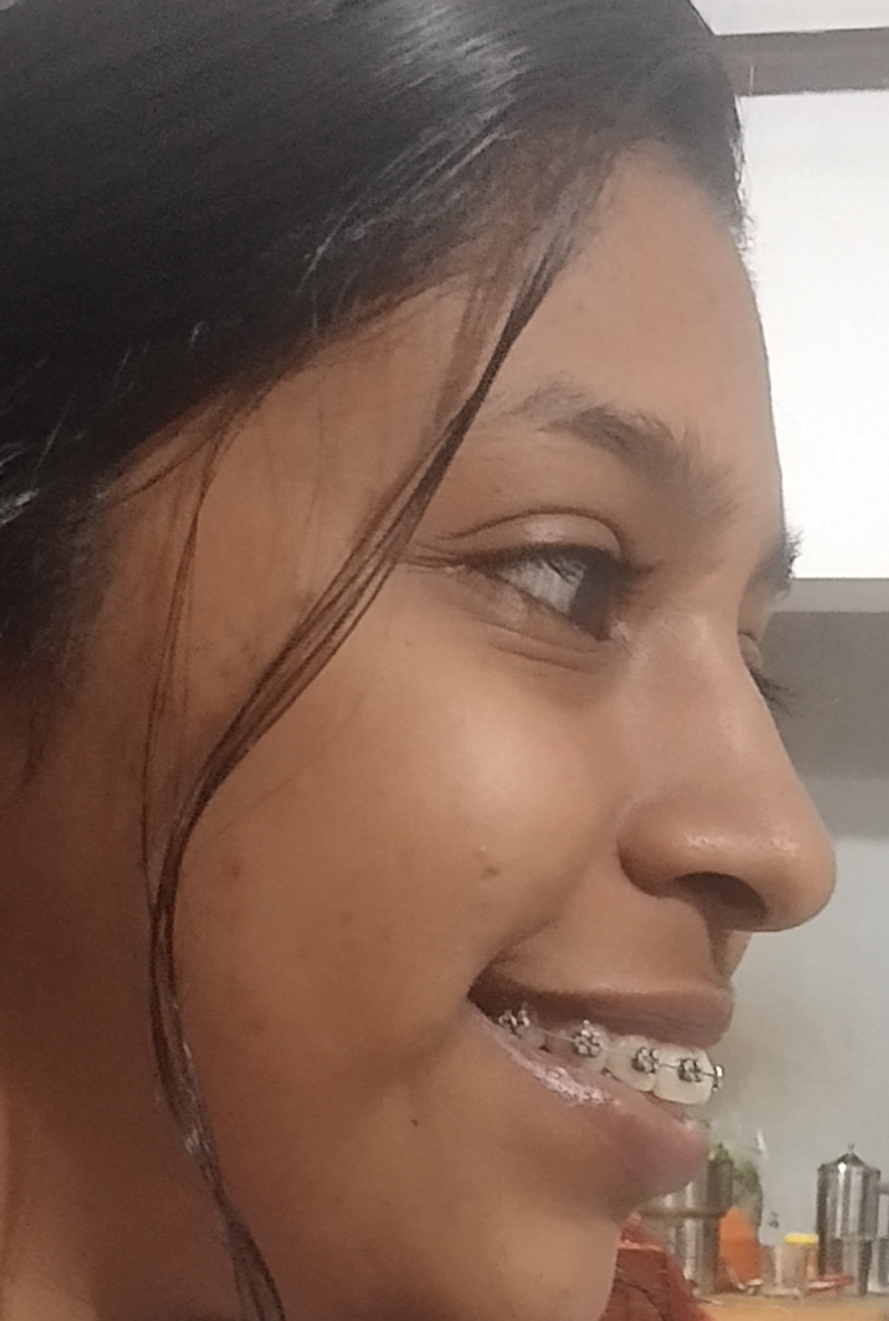closed_comedone: (203, 641, 278, 702), (212, 846, 273, 900), (476, 830, 493, 881)
